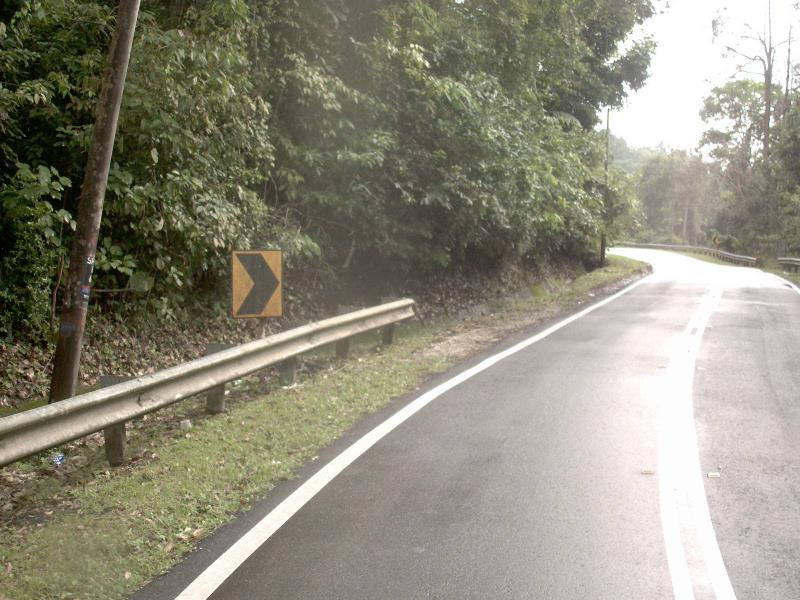traffic_sign: (220, 237, 298, 331)
